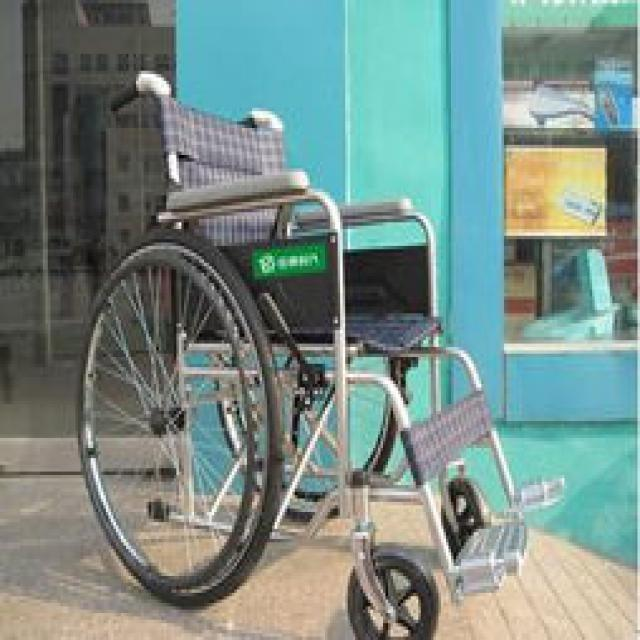wheelchair: (72, 67, 564, 637)
